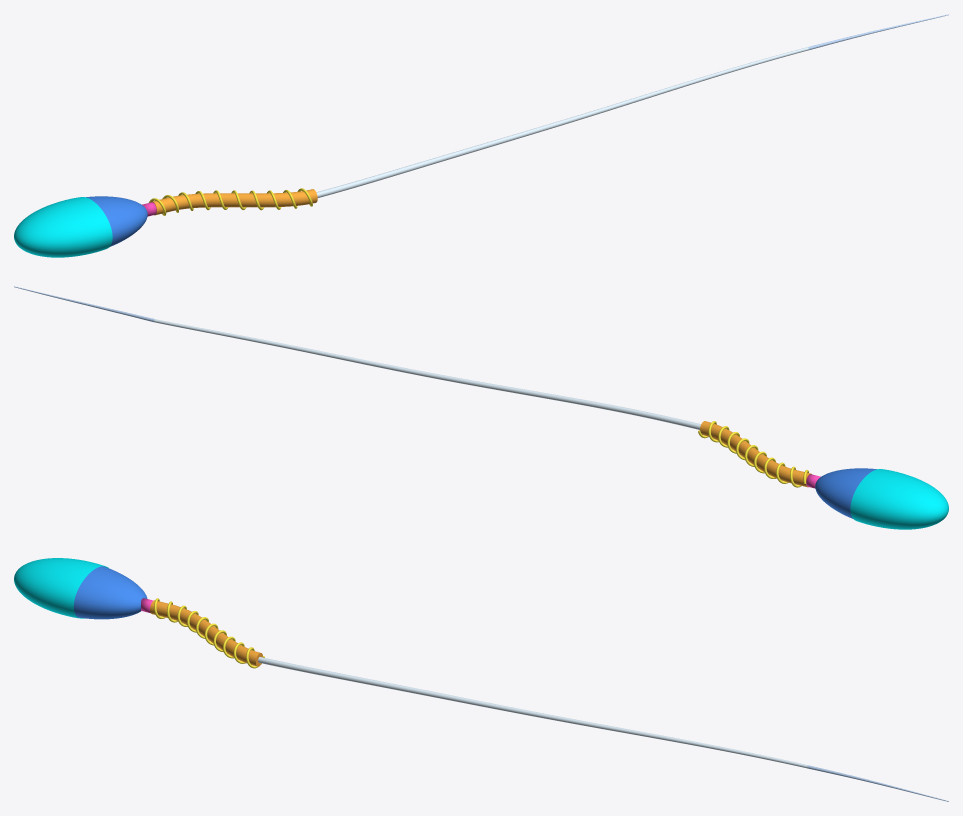
The model's file is 11_Pieza_intermedia_doblada.glb.
The picture shows the model from 3 angles, top to bottom: view 1: azimuth 30°, elevation 25°; view 2: azimuth 150°, elevation 25°; view 3: azimuth 330°, elevation 25°; orthographic projection.
Parts seen in each view (by area): view 1: Cubierta_acrosomal_didactica.001, Cola_pieza_principal.001, Pieza_intermedia_doblada, Cabeza_nucleo.001, Helice_mitocondrial_doblada; view 2: Cubierta_acrosomal_didactica.001, Cola_pieza_principal.001, Cabeza_nucleo.001, Pieza_intermedia_doblada, Helice_mitocondrial_doblada; view 3: Cubierta_acrosomal_didactica.001, Cola_pieza_principal.001, Cabeza_nucleo.001, Pieza_intermedia_doblada, Helice_mitocondrial_doblada.
Boxes of the visible parts, x1,y1,x2,y2 form: Cubierta_acrosomal_didactica.001: (14, 197, 112, 257); Cola_pieza_principal.001: (316, 47, 808, 197); Pieza_intermedia_doblada: (151, 189, 317, 215); Cabeza_nucleo.001: (86, 196, 147, 246); Helice_mitocondrial_doblada: (149, 188, 312, 215); Cubierta_acrosomal_didactica.001: (850, 469, 948, 529); Cola_pieza_principal.001: (154, 319, 700, 429); Cabeza_nucleo.001: (815, 468, 876, 518); Pieza_intermedia_doblada: (700, 421, 811, 487); Helice_mitocondrial_doblada: (698, 421, 808, 487); Cubierta_acrosomal_didactica.001: (14, 558, 108, 618); Cola_pieza_principal.001: (258, 657, 807, 768); Cabeza_nucleo.001: (73, 566, 147, 619); Pieza_intermedia_doblada: (150, 600, 263, 666); Helice_mitocondrial_doblada: (154, 598, 264, 668).
Size of the model in its own units: 62.85 by 2.93 by 6.07.
